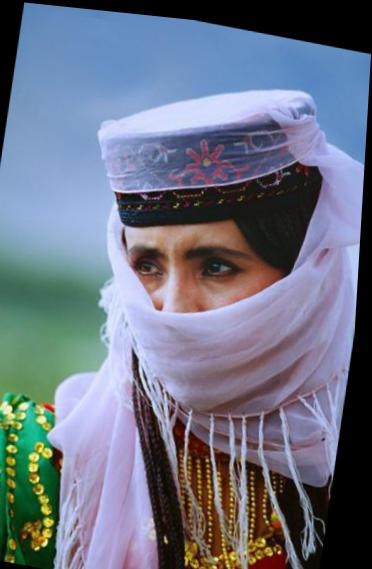WRONG: (109, 199, 292, 408)
